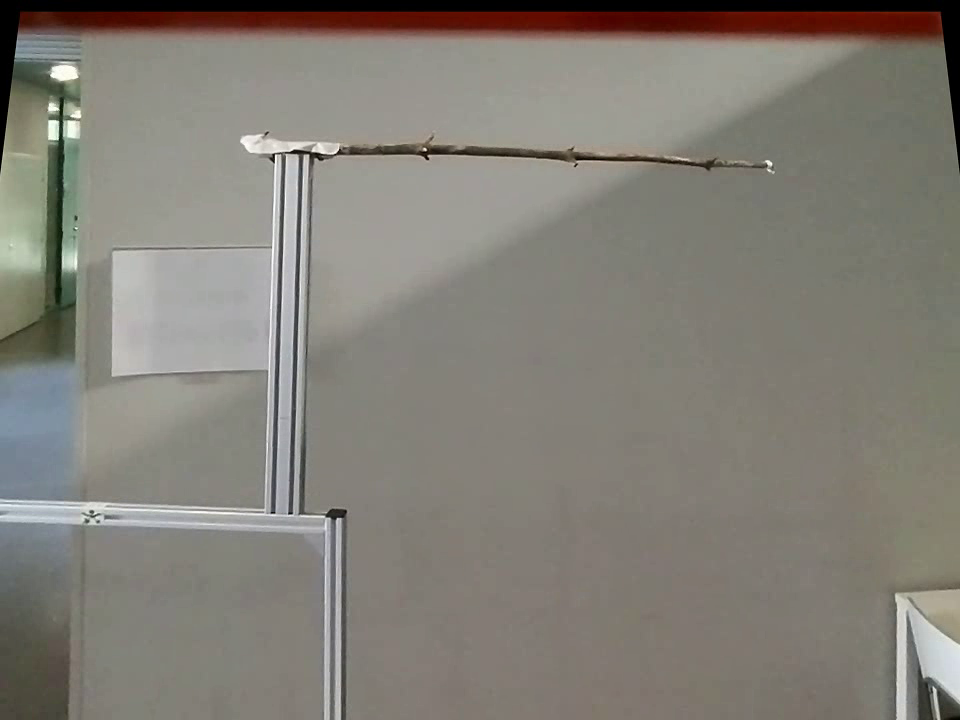aluminum_frame: (260, 157, 311, 509), (1, 495, 328, 544), (320, 505, 349, 718)
branch: (343, 122, 752, 184)
